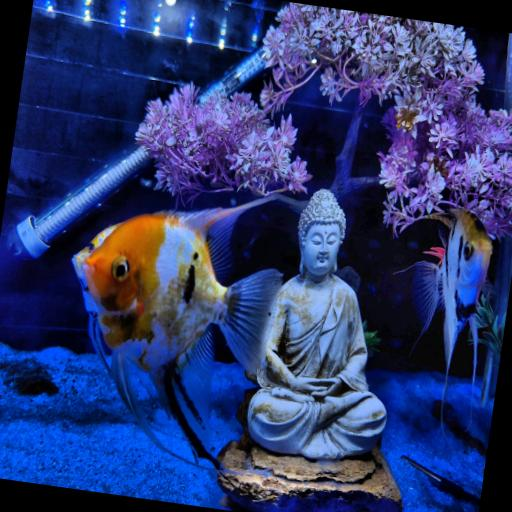Fish: (75, 196, 282, 467), (413, 208, 492, 405)
